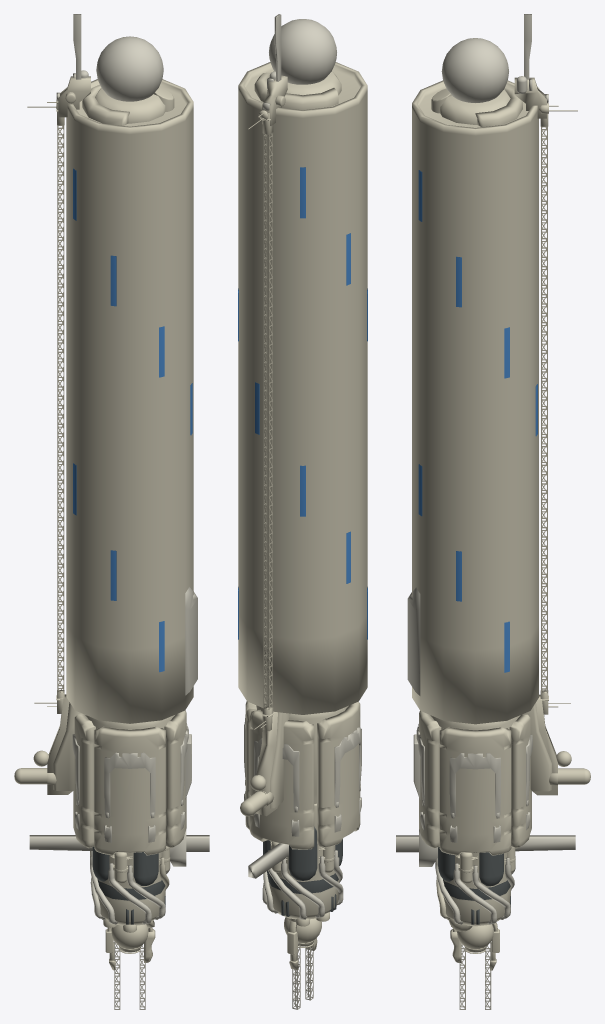
The model's file is Cruiser_Missile_EXPORT.dae.
3 views of the same model, side by side, from view 1: azimuth 90°, elevation 25°; view 2: azimuth 150°, elevation 25°; view 3: azimuth 270°, elevation 25° (orthographic).
Visible parts, largest first — view 1: Cylinder; view 2: Cylinder; view 3: Cylinder.
Boxes of the visible parts, x1,y1,x2,y2 form: Cylinder: (14,14,209,1009); Cylinder: (238,14,367,1009); Cylinder: (396,14,590,1009).
Bounding box in the file's own units: 31.66 × 273 × 48.52.
